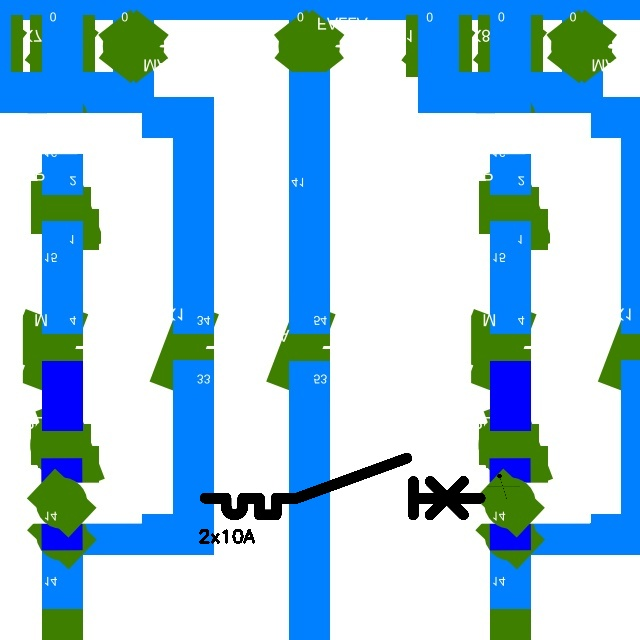interruptor_termomagnetico: (198, 451, 487, 522)
